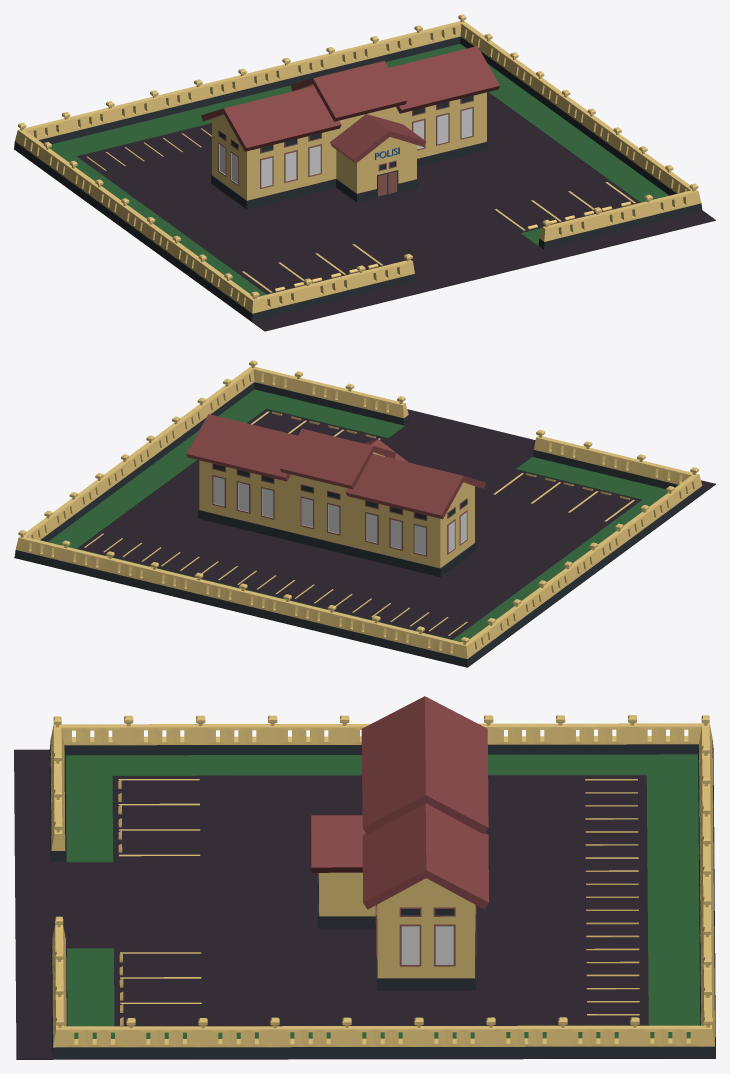
File: polisi.fbx
3 views of the same model, one above another, from view 1: azimuth 30°, elevation 25°; view 2: azimuth 150°, elevation 25°; view 3: azimuth 270°, elevation 25° (orthographic). The views are drawn at different scales.
Visible parts, largest first — view 1: Plane.001; view 2: Plane.001; view 3: Plane.001.
Part boxes in pixels (bbox=[...]): Plane.001: bbox=[14, 14, 715, 331]; Plane.001: bbox=[14, 360, 715, 667]; Plane.001: bbox=[14, 696, 715, 1059].
Size of the model in its own units: 106 by 22.04 by 102.
